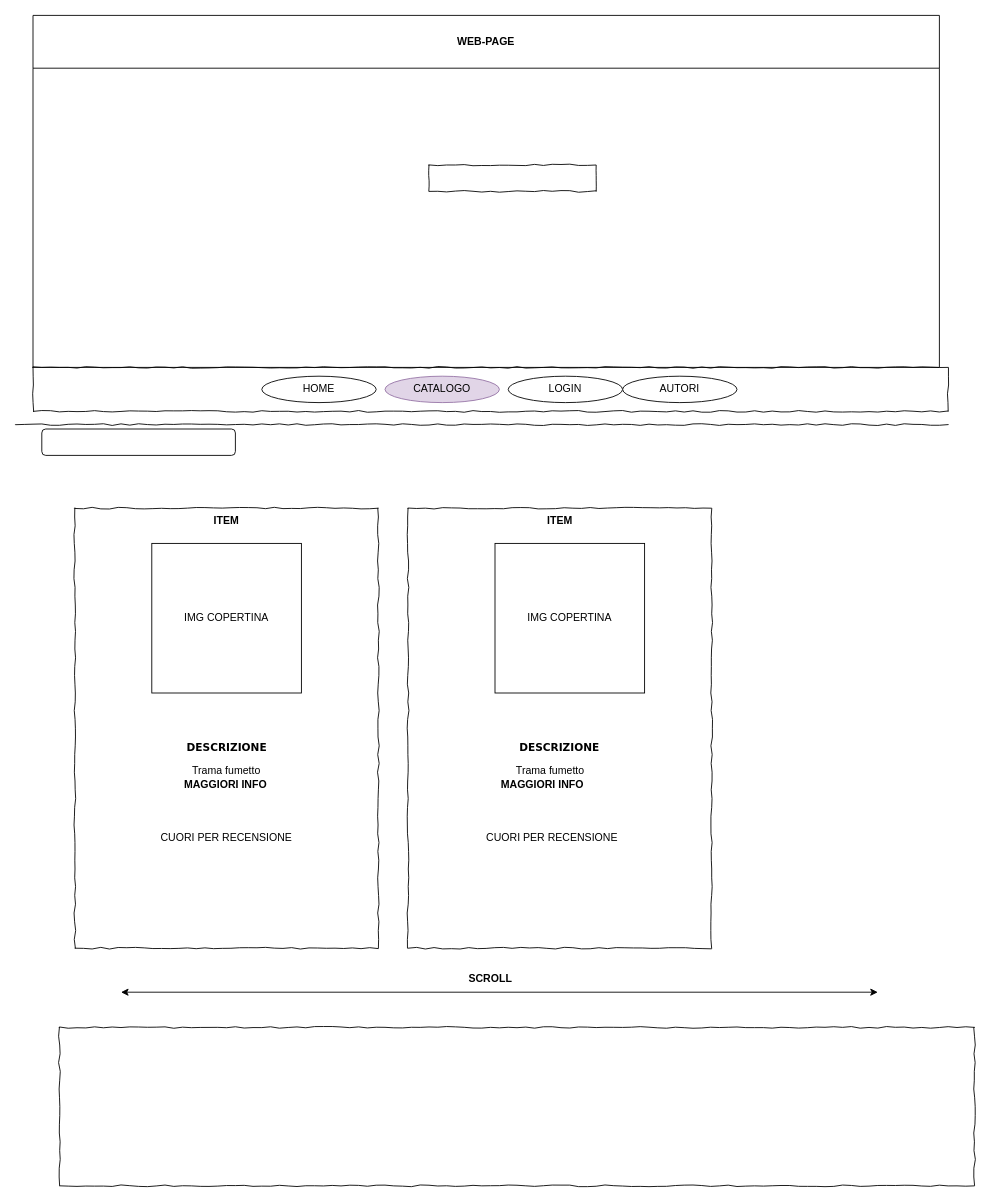
This 990x1201 diagram has some shape labels left out. The centre of each missing label's shape, as x and y in pixels:
"CERCALO TU!" belongs at (138,441).
"FOOTER" belongs at (517,1106).
"logo img" belongs at (512,177).
